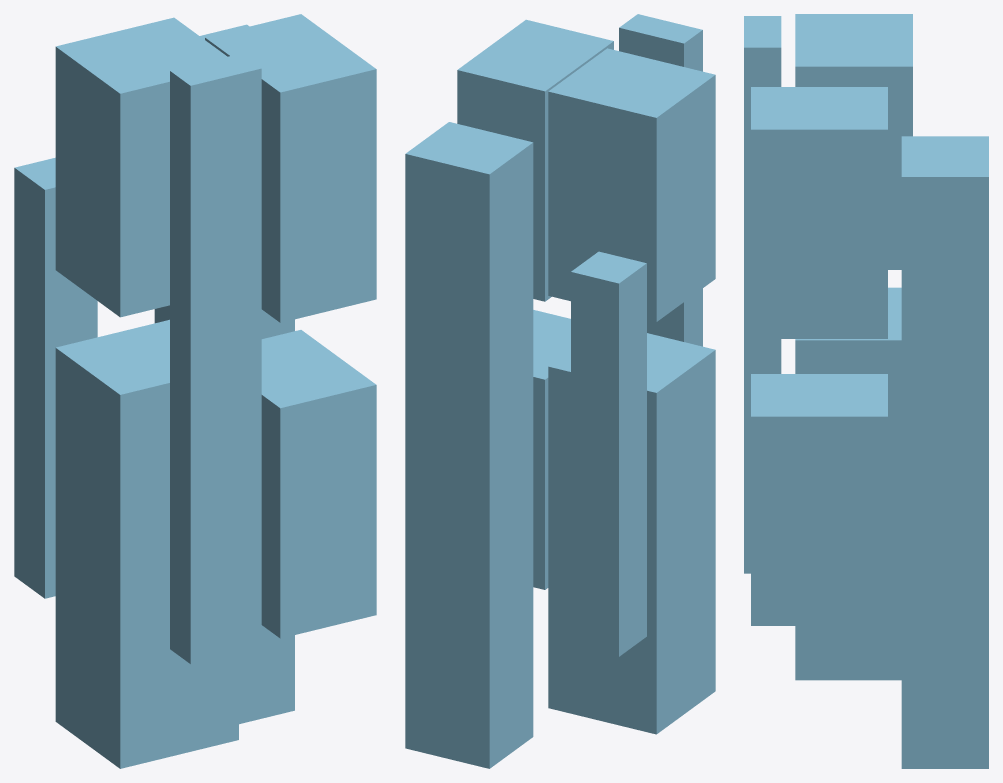
File: wall1.FBX
3 renders of one model, left to right at view 1: azimuth 30°, elevation 25°; view 2: azimuth 150°, elevation 25°; view 3: azimuth 270°, elevation 25°, orthographic. The views are drawn at different scales.
Parts seen in each view (by area): view 1: Box363; view 2: Box363; view 3: Box363.
Boxes of the visible parts, <box> form: Box363: <box>14,14,376,768</box>; Box363: <box>405,14,715,768</box>; Box363: <box>744,14,988,768</box>.
Bounding box in the file's own units: 35.93 × 108 × 35.93.
